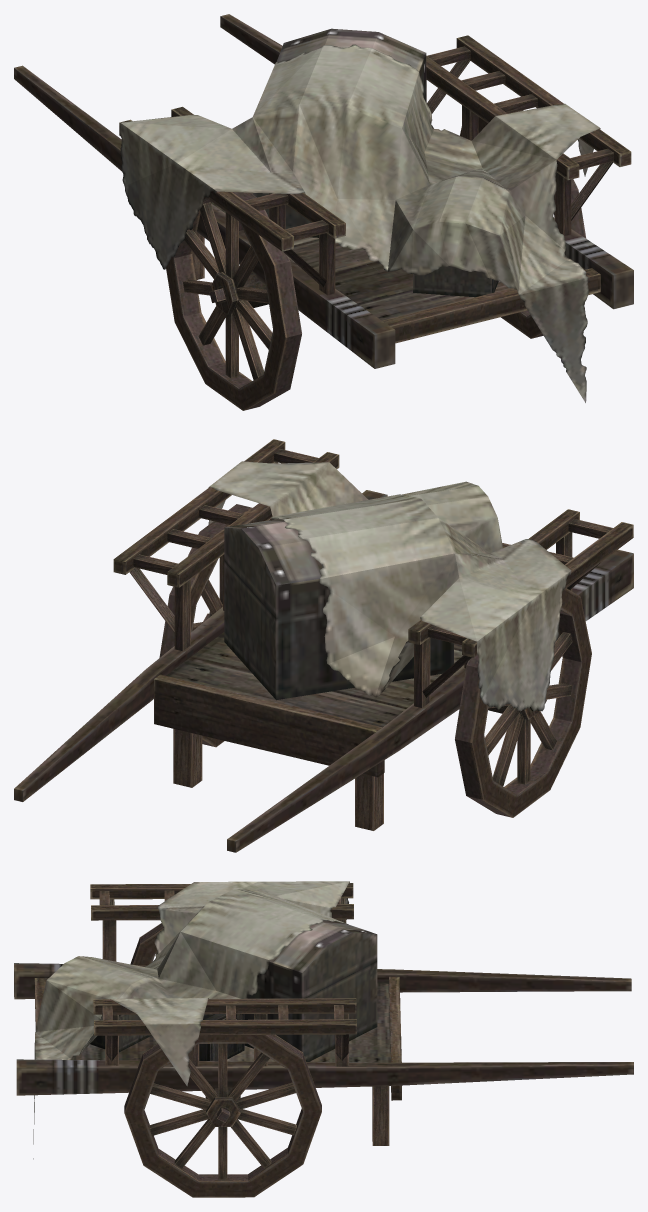
The picture shows the model from 3 angles, top to bottom: view 1: azimuth 30°, elevation 25°; view 2: azimuth 150°, elevation 25°; view 3: azimuth 270°, elevation 25°; orthographic projection. The views are drawn at different scales.
Parts seen in each view (by area): view 1: qingmo_obj_295 [10484732]; view 2: qingmo_obj_295 [10484732]; view 3: qingmo_obj_295 [10484732].
Part boxes in pixels (<box>): qingmo_obj_295 [10484732]: <box>14,14,633,410</box>; qingmo_obj_295 [10484732]: <box>14,439,633,852</box>; qingmo_obj_295 [10484732]: <box>14,881,633,1197</box>.
Size of the model in its own units: 14.7 by 25.48 by 9.93.
Materials: 2 (2 with a texture image).
